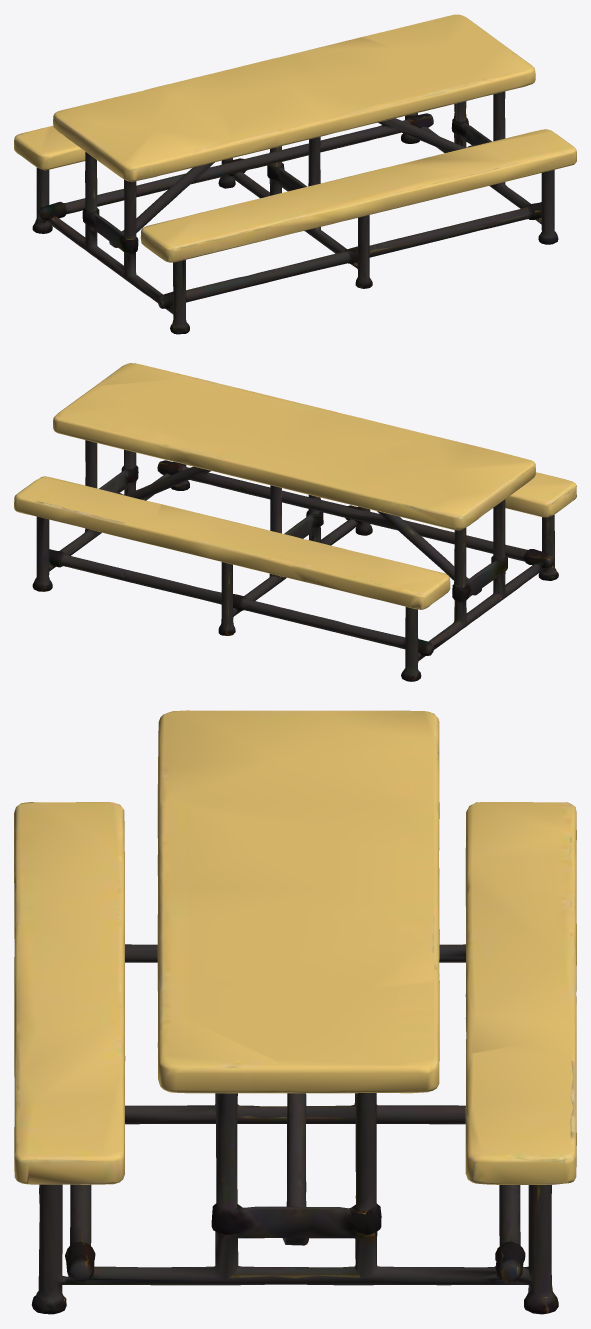
The model's file is canteen_table.glb.
3 renders of one model, top to bottom at view 1: azimuth 30°, elevation 25°; view 2: azimuth 150°, elevation 25°; view 3: azimuth 270°, elevation 25°, orthographic. The views are drawn at different scales.
Parts seen in each view (by area): view 1: geometry_0; view 2: geometry_0; view 3: geometry_0.
Part boxes in pixels (x1,y1,x2,y2): geometry_0: [14, 14, 576, 334]; geometry_0: [14, 363, 576, 681]; geometry_0: [14, 710, 576, 1314].
Bounding box in the file's own units: 1 × 0.3375 × 0.6637.
1 material, 1 textured.
